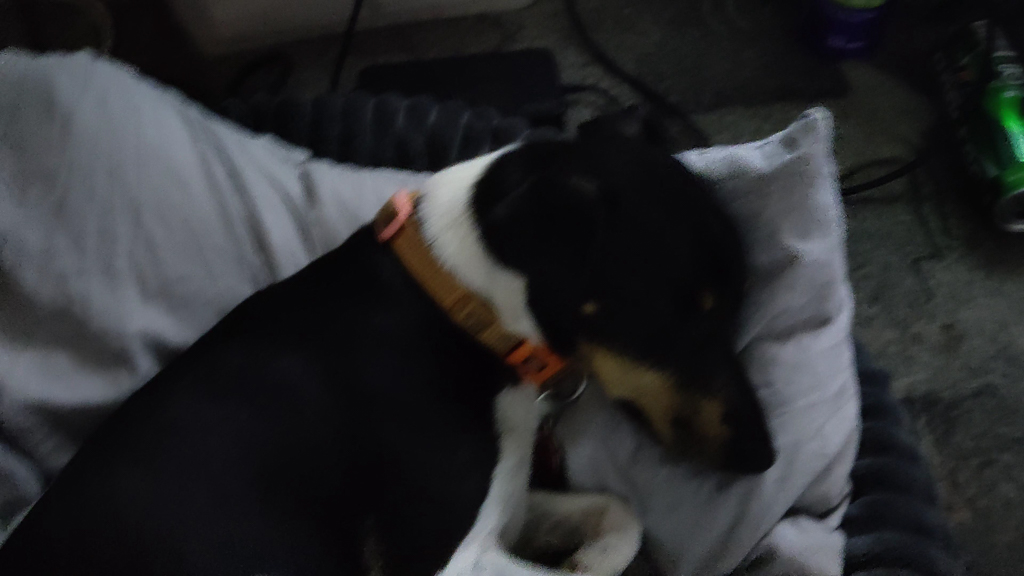Dog: (0, 91, 818, 576)
